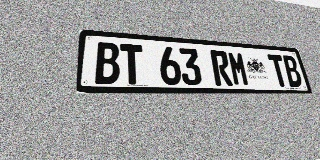3: (179, 48, 202, 85)
6: (158, 46, 182, 85)
B: (95, 42, 120, 84), (281, 55, 304, 87)
M: (227, 51, 250, 86)
R: (210, 50, 233, 86)
T: (120, 43, 144, 85), (267, 54, 290, 87)
